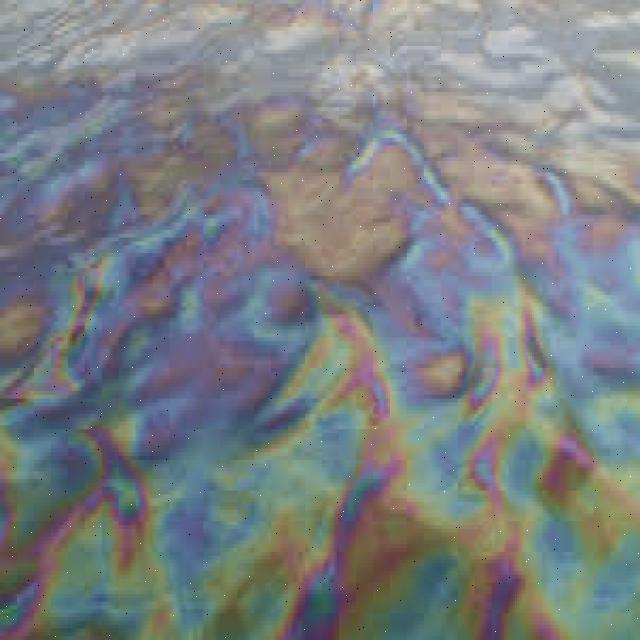rainbow: (0, 4, 640, 636)
